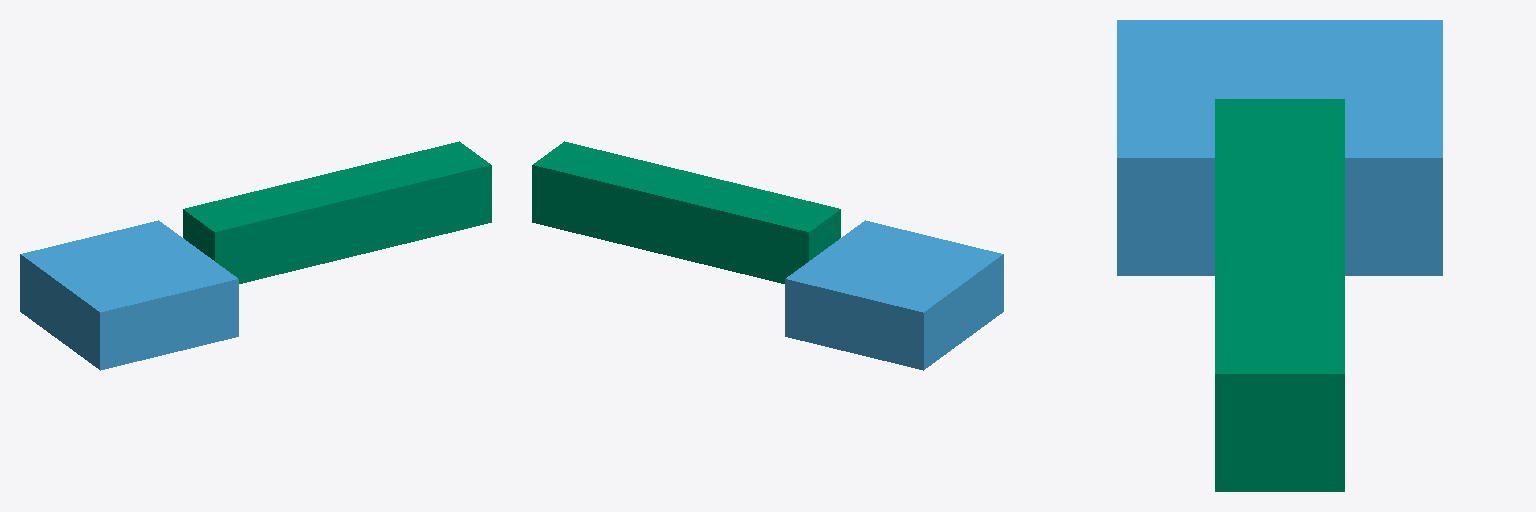
The robot description file, URDF, robot "arm":
<?xml version="1.0"?>
<robot name="arm">
  <link name="world"/>
  <link name="base">
    <inertial>
      <origin xyz="-1.898173e-19 -4.9474828e-19 0.006" rpy="0 0 0"/>
      <mass value="0.013392"/>
      <inertia ixx="1.165104e-06" ixy="1.9824142e-24" ixz="6.4428463e-25" iyy="1.165104e-06" iyz="6.4428463e-25" izz="2.0088e-06"/>
    </inertial>
    <visual>
      <origin xyz="0 0 0" rpy="0 0 0"/>
      <geometry><mesh filename="meshes/base.stl" scale="0.001 0.001 0.001"/></geometry>
    </visual>
    <collision>
      <origin xyz="0 0 0" rpy="0 0 0"/>
      <geometry><mesh filename="meshes/base.stl" scale="0.001 0.001 0.001"/></geometry>
    </collision>
  </link>
  <link name="link">
    <inertial>
      <origin xyz="0.058474669 4.0141219e-21 5.3521625e-21" rpy="0 0 0"/>
      <mass value="0.2107136"/>
      <inertia ixx="2.571264e-07" ixy="2.4580335e-23" ixz="3.2112975e-23" iyy="1.249463e-05" iyz="3.766587e-25" izz="1.249463e-05"/>
    </inertial>
    <visual>
      <origin xyz="-0 -0 -0" rpy="0 0 0"/>
      <geometry><mesh filename="meshes/link.stl" scale="0.001 0.001 0.001"/></geometry>
    </visual>
    <collision>
      <origin xyz="-0 -0 -0" rpy="0 0 0"/>
      <geometry><mesh filename="meshes/link.stl" scale="0.001 0.001 0.001"/></geometry>
    </collision>
  </link>
  <joint name="world_to_base" type="fixed">
    <parent link="world"/>
    <child link="base"/>
    <origin xyz="0 0 0" rpy="0 -0 0"/>
  </joint>
  <joint name="shoulder" type="revolute">
    <parent link="base"/>
    <child link="link"/>
    <origin xyz="0.015 0 0.012" rpy="0 0 0"/>
    <axis xyz="0 1 0"/>
    <limit lower="-0.78539816" upper="1.5707963" effort="10" velocity="1"/>
  </joint>
</robot>

--- Facts derived from the render (not from the file) ---
3 views of the same robot in one strip: view 1: azimuth 30°, elevation 25°; view 2: azimuth 150°, elevation 25°; view 3: azimuth 270°, elevation 25° (orthographic).
Model arm with 3 links and 2 joints (1 revolute, 1 fixed), rooted at world, posed every joint at zero.
Visible links, largest first — view 1: link, base; view 2: link, base; view 3: base, link.
Boxes of the visible links, x1=… form: link: x1=183, y1=141, x2=491, y2=283; base: x1=20, y1=220, x2=238, y2=370; link: x1=532, y1=141, x2=840, y2=283; base: x1=785, y1=220, x2=1003, y2=370; base: x1=1117, y1=20, x2=1442, y2=275; link: x1=1215, y1=99, x2=1344, y2=491.
Size in the robot's own frame: 0.09 by 0.03 by 0.018 metres.
Meshes: 2 distinct files referenced, 2 mesh visuals loaded (2 binary STL).
